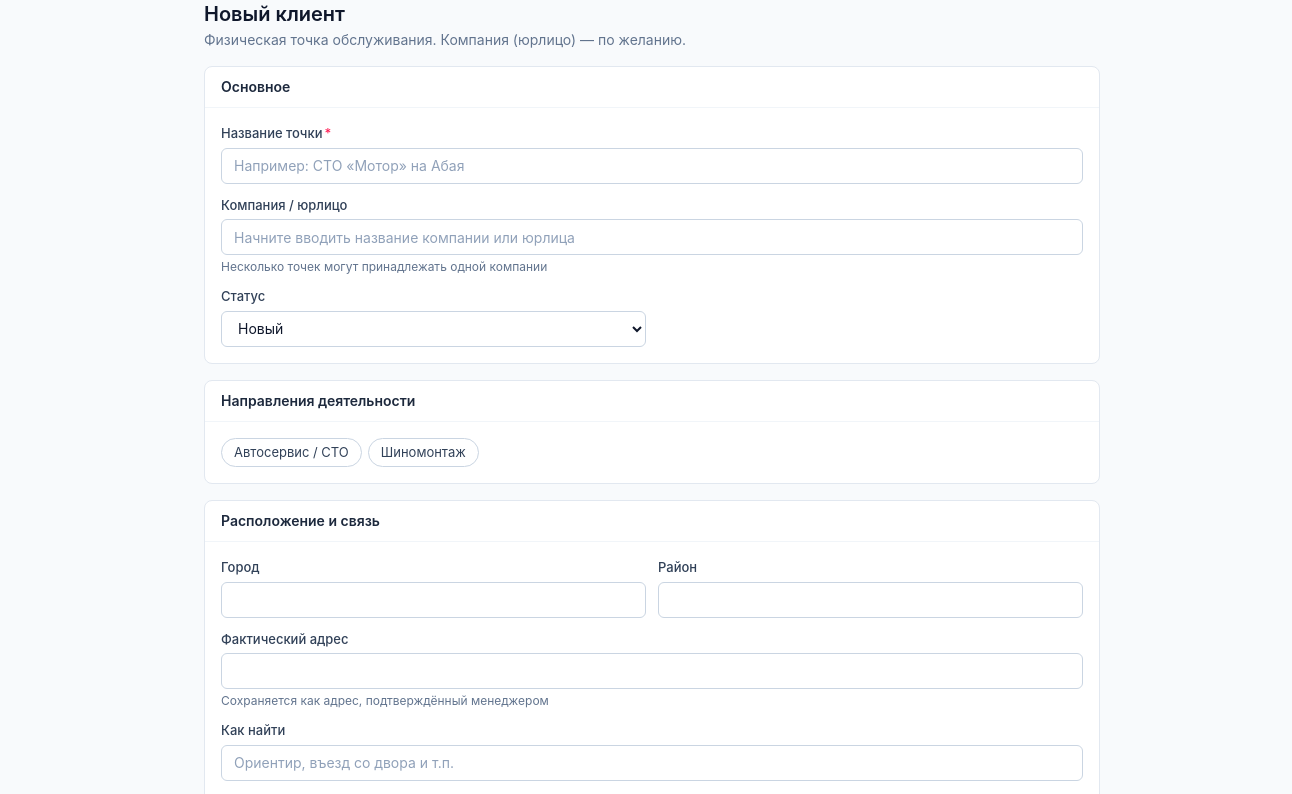
Test: Форма нового клиента › двойное нажатие создаёт клиента один раз и открывает карточку
In the field labelled "Название точки*": (652, 166) x1=221 y1=148 x2=1083 y2=184, type "СТО Мотор"
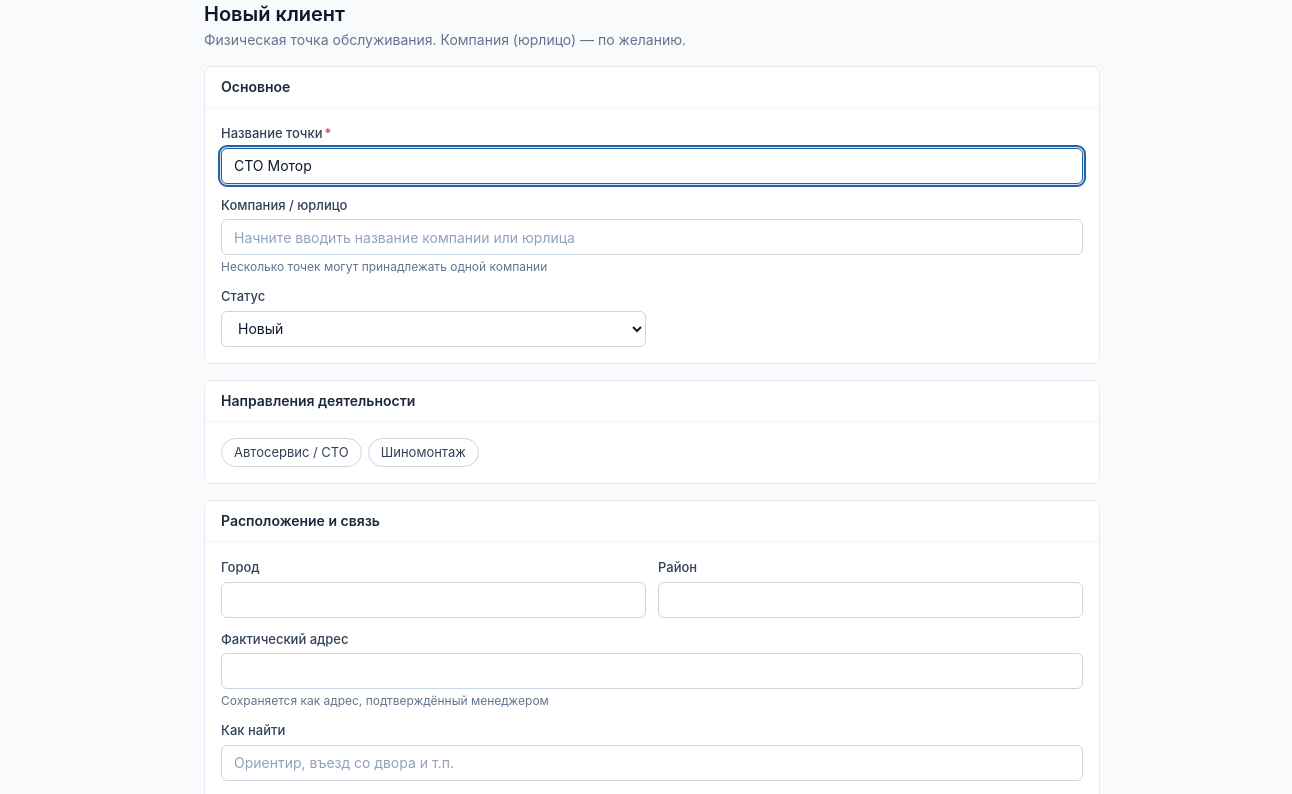
Click the button "Шиномонтаж": (423, 452) x1=368 y1=438 x2=479 y2=467
(page scrolled)
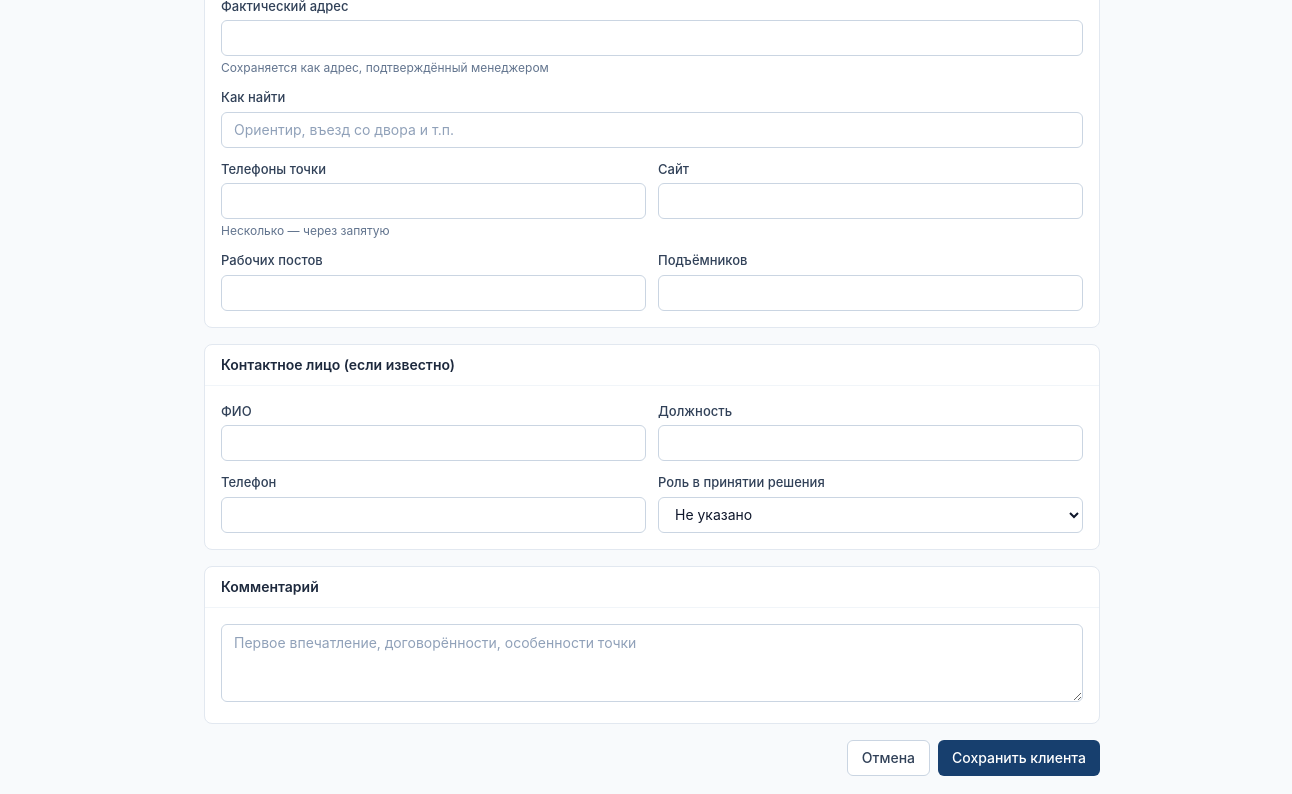
Click the button "Сохранить клиента": (1019, 758) x1=938 y1=740 x2=1100 y2=776
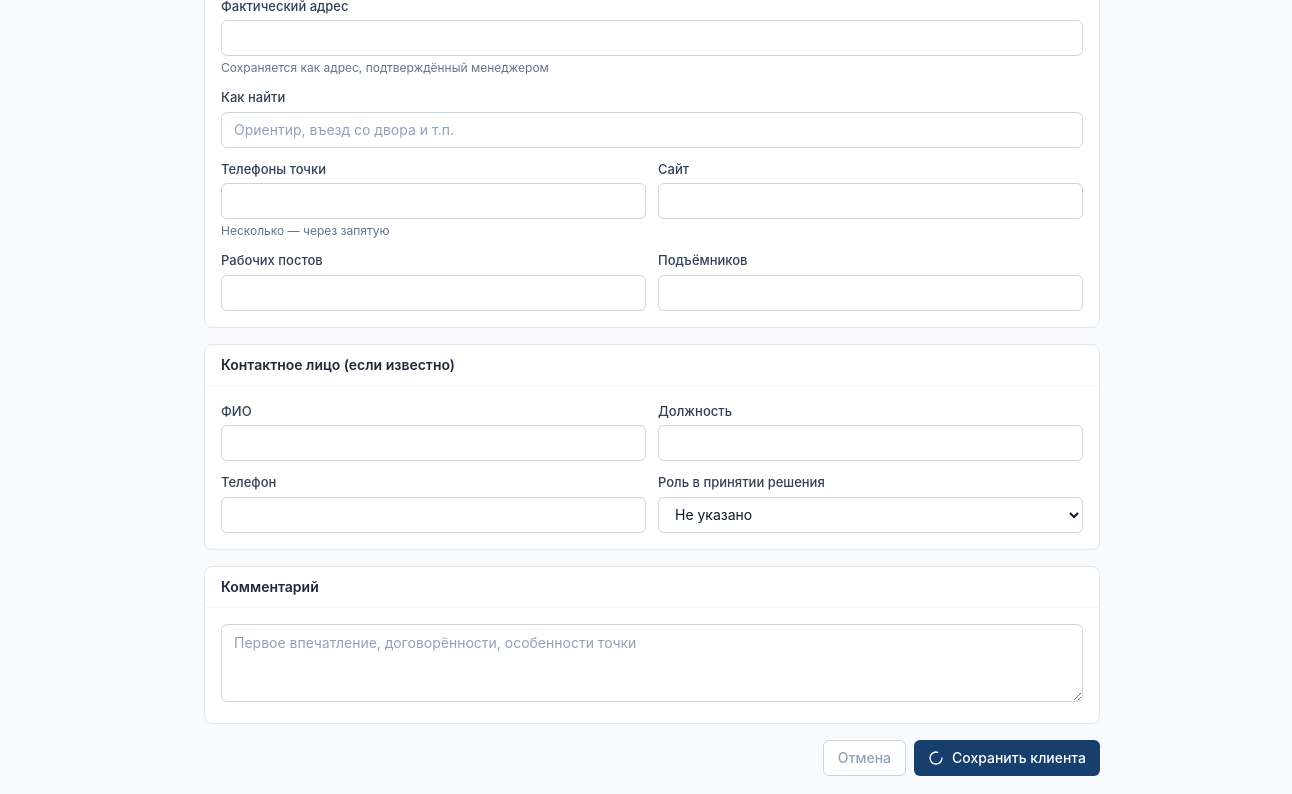
Click the button "Сохранить клиента": (1007, 758) x1=914 y1=740 x2=1100 y2=776
(page scrolled)
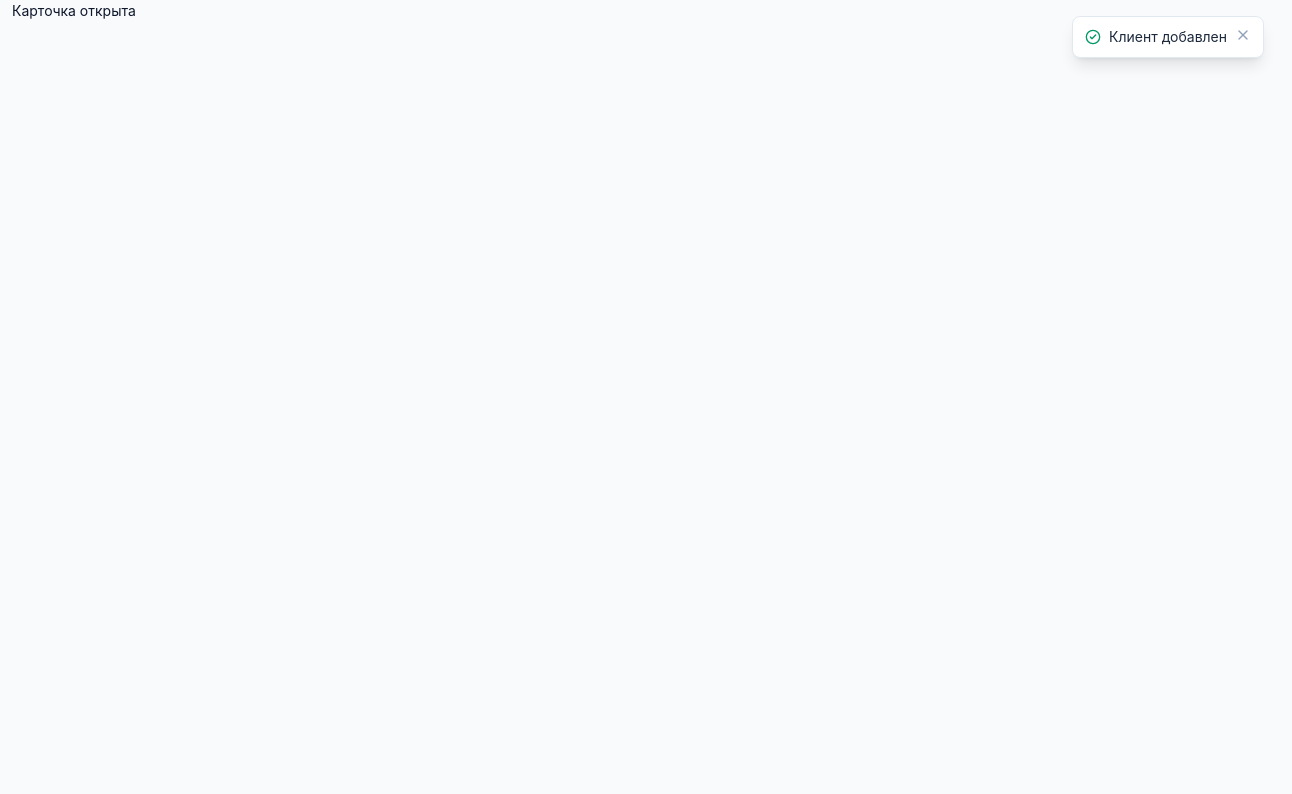
Expected: the text "Карточка открыта" is shown, x1=12 y1=2 x2=136 y2=19
